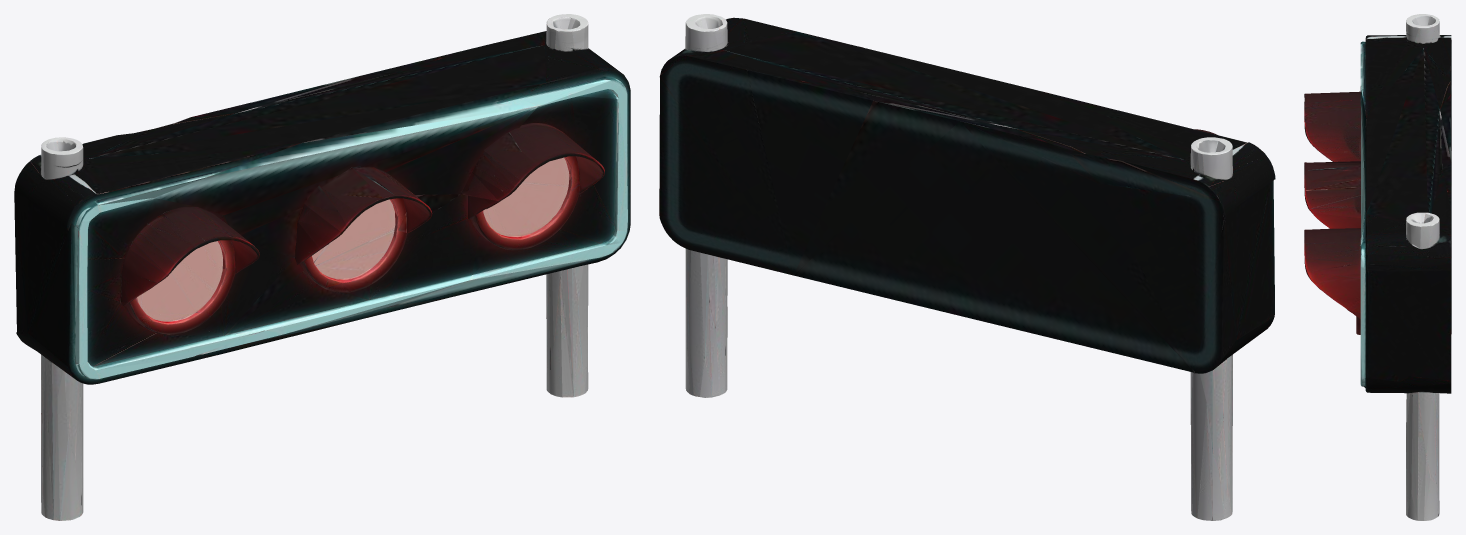
File: lights.glb
3 renders of one model, left to right at view 1: azimuth 30°, elevation 25°; view 2: azimuth 150°, elevation 25°; view 3: azimuth 270°, elevation 25°, orthographic. The views are drawn at different scales.
Size of the model in its own units: 1.9 by 1.18 by 0.5333.
Materials: 1 (1 with a texture image).
